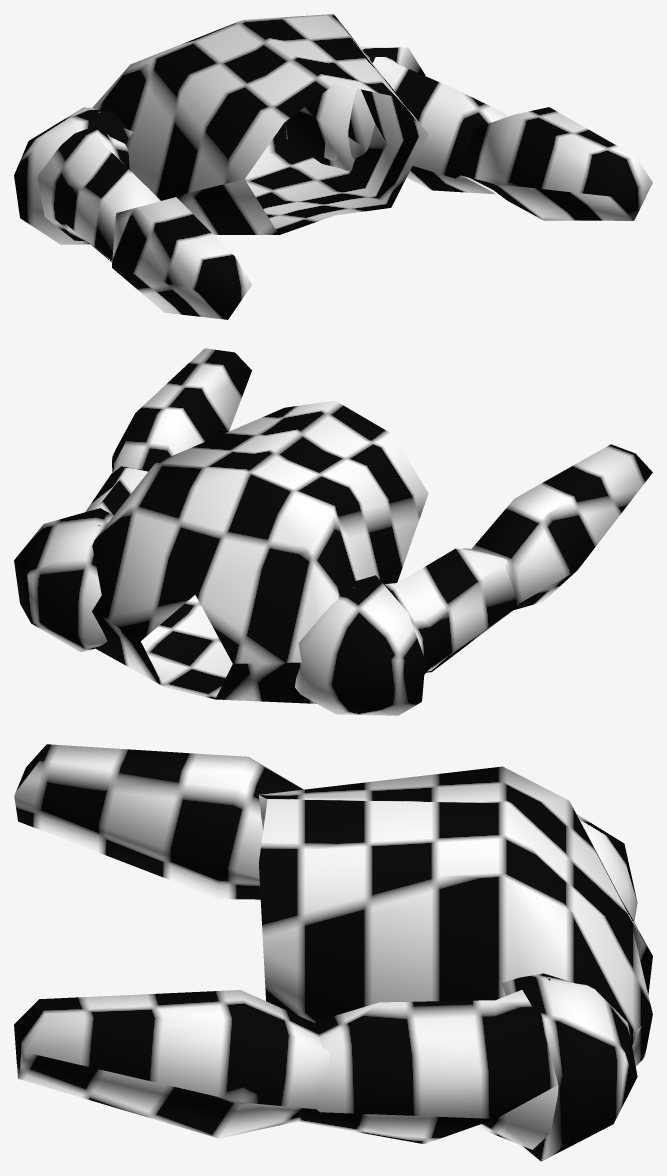
File: initarpl6.dae
3 views of the same model, one above another, from view 1: azimuth 30°, elevation 25°; view 2: azimuth 150°, elevation 25°; view 3: azimuth 270°, elevation 25° (orthographic). The views are drawn at different scales.
Parts seen in each view (by area): view 1: armor; view 2: armor; view 3: armor.
Boxes of the visible parts, left/top/right/bottom form: armor: left=14, top=14, right=652, bottom=319; armor: left=14, top=348, right=652, bottom=715; armor: left=14, top=744, right=652, bottom=1161.
Size of the model in its own units: 1.56 by 1.43 by 0.6372.
1 material, 1 textured.
